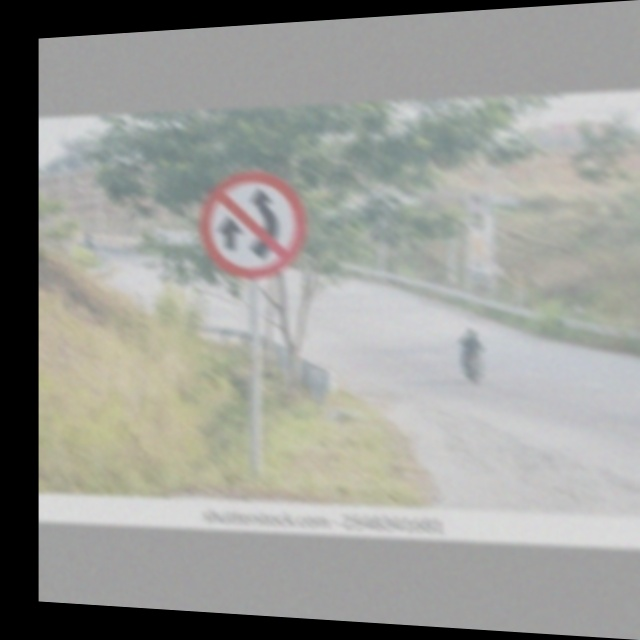Overtaking_Prohibited: (203, 167, 304, 277)
